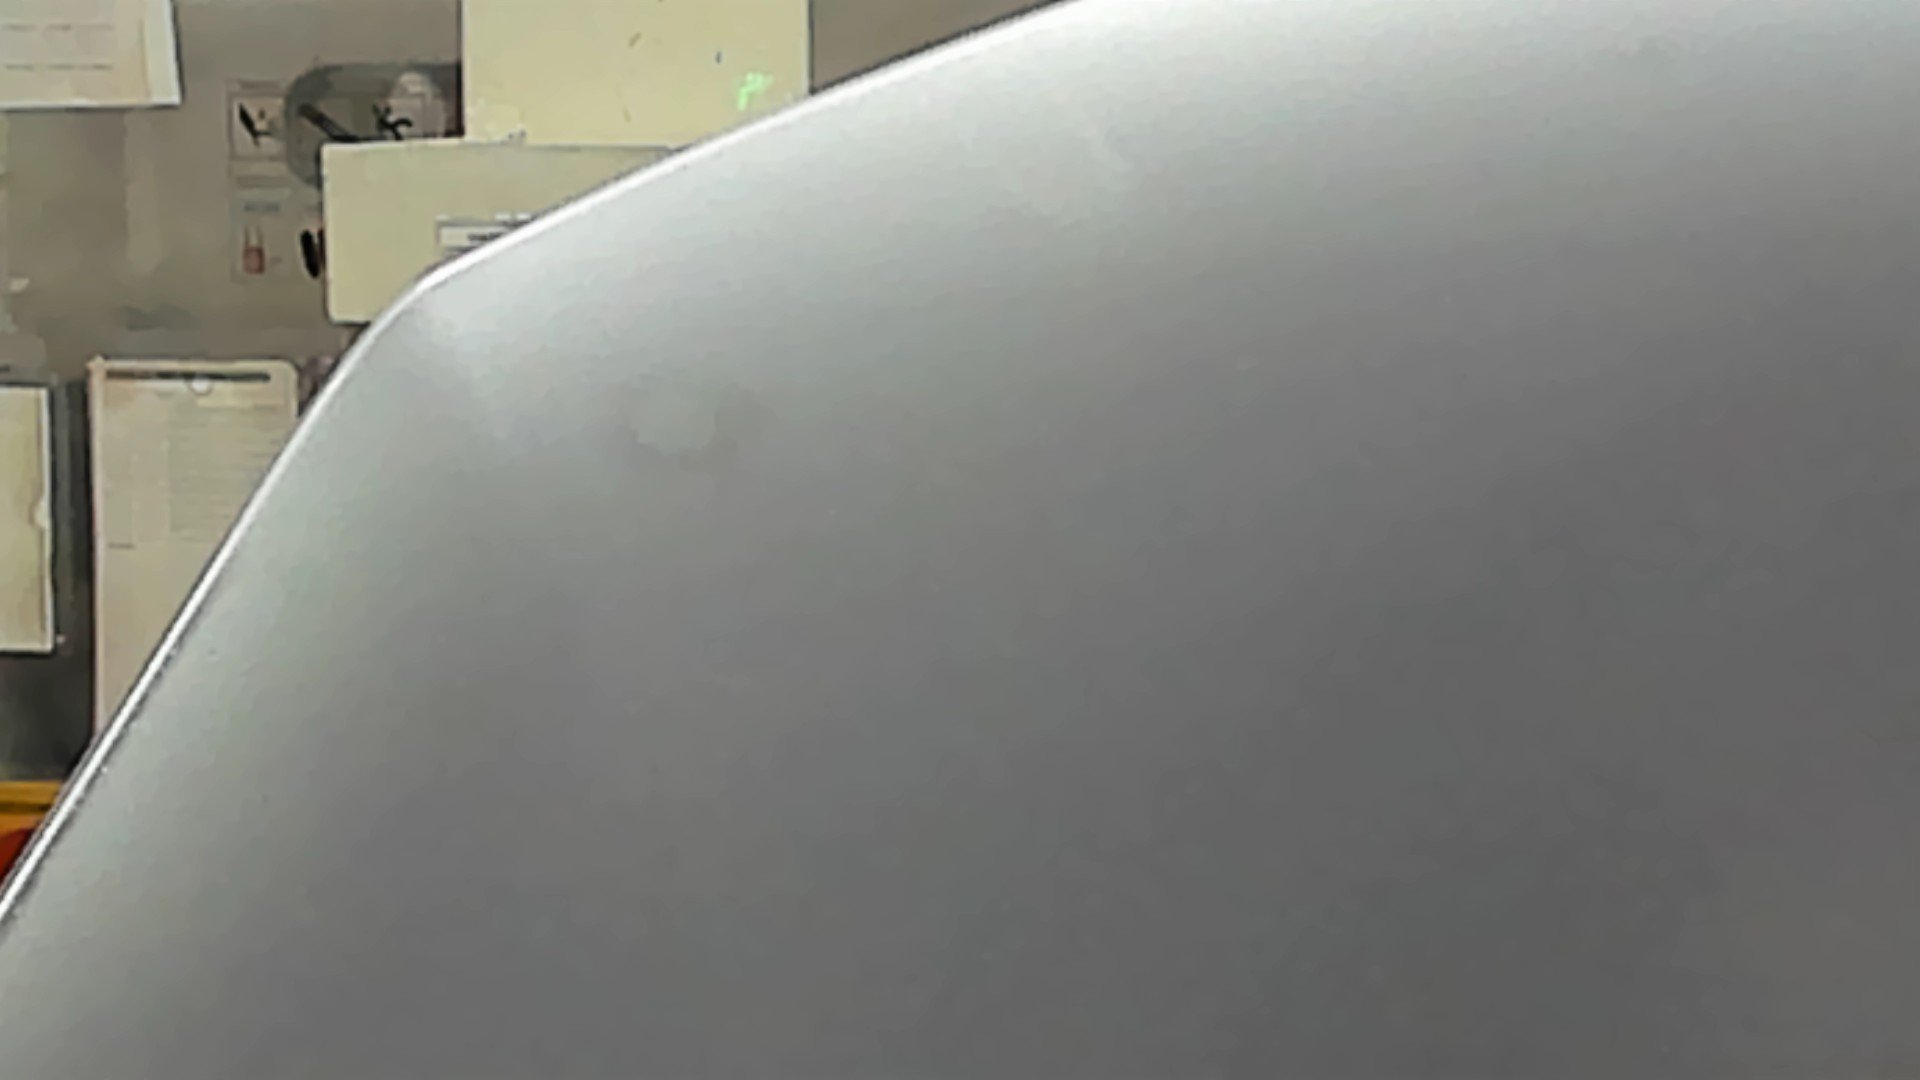capo: (585, 223, 1920, 1080)
